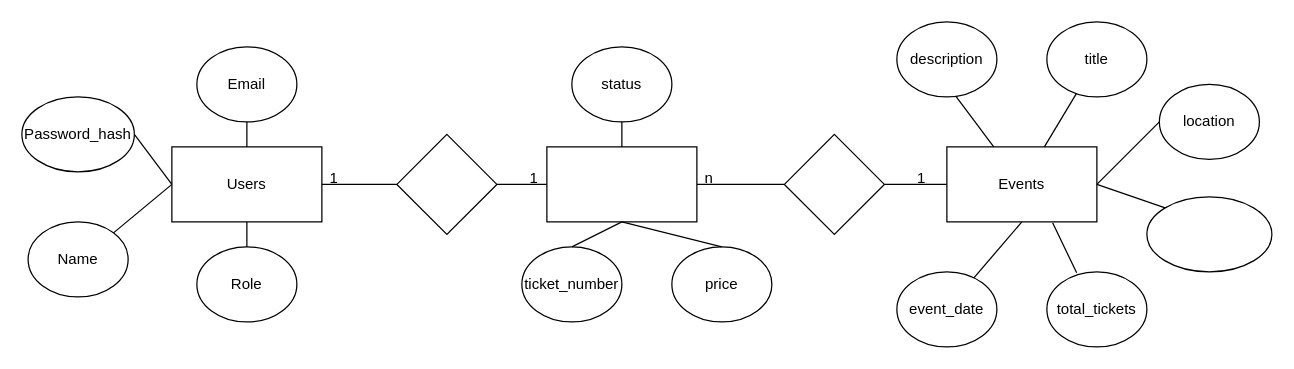
This 1294x369 diagram has some shape labels left out. The shapes that lost their labels are listed below. From the top down, each one's centre as x and y in pixels, then its label:
At (446,183): "has".
At (621,184): "Tickets".
At (833,183): "claims".
At (1209,234): "available_tickets".
